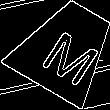M_NE: (31, 15, 101, 82)
